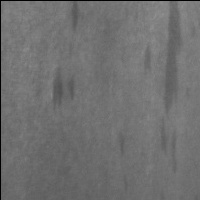inclusion: (161, 2, 185, 124), (50, 64, 78, 113), (158, 115, 180, 176), (66, 1, 85, 38), (139, 41, 155, 77), (114, 126, 131, 159)
